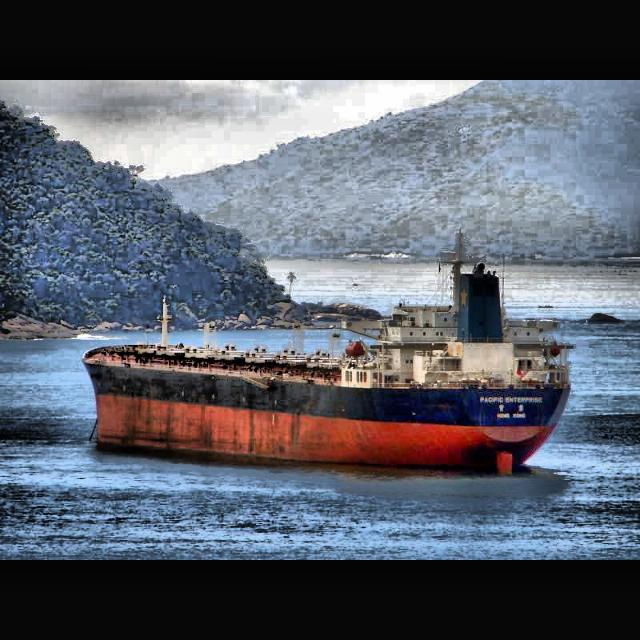bulk_carrier: (80, 226, 578, 482)
